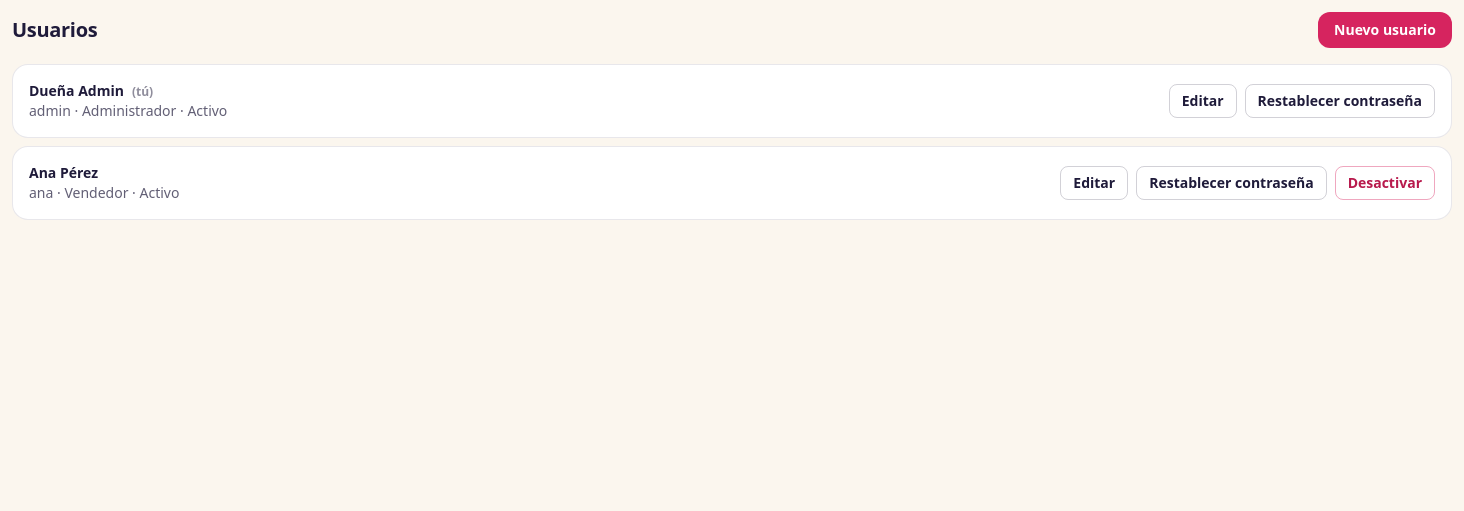
Test: Usuarios (RF-015) › al editarse a sí mismo el selector de rol queda bloqueado
Click the button with aria-label "Editar Dueña Admin" at (1203, 101), box [1169,84,1237,118]
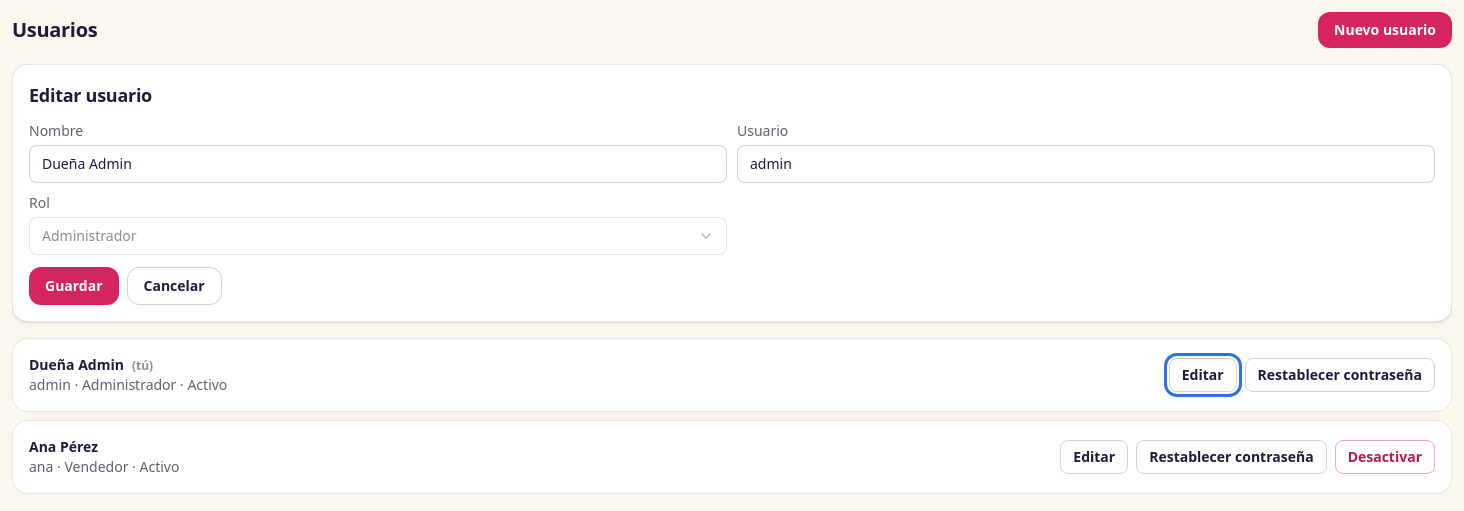
Now the dropdown named "Rol" is disabled, box [29,217,727,255]
